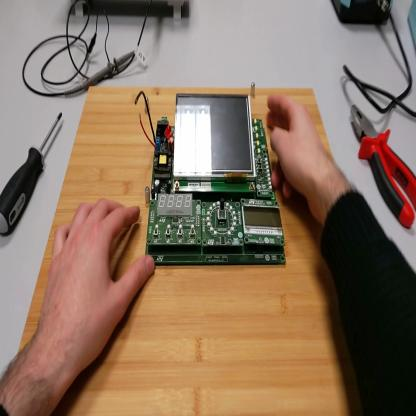hand: (36, 196, 155, 378), (265, 91, 326, 210)
low voltage board: (136, 93, 286, 266)
oscilloscope: (73, 2, 187, 21)
oscilloscope probe tip: (67, 50, 137, 93)
pliers: (352, 106, 416, 228)
screwdriver-: (2, 109, 63, 236)
welder base: (408, 1, 416, 51)
welder station: (332, 1, 394, 31)
working area: (20, 84, 364, 413)
